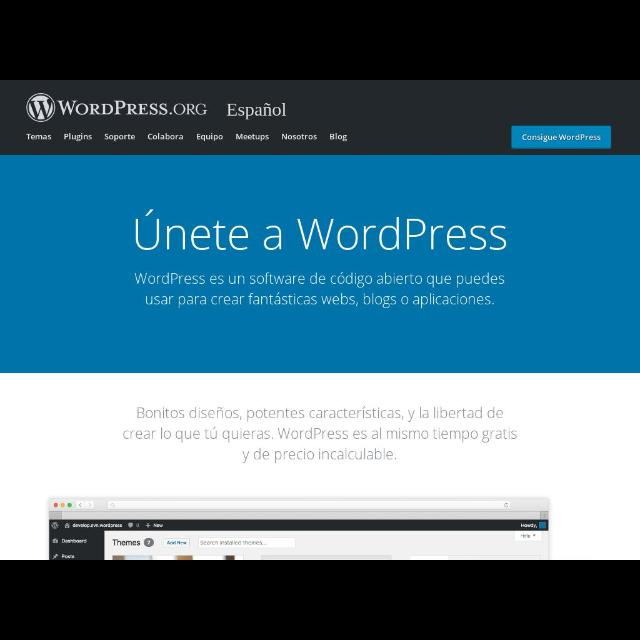image: (49, 499, 550, 559), (26, 93, 208, 123)
multitab: (0, 125, 374, 148)
text: (122, 406, 518, 464), (135, 209, 508, 253), (133, 272, 507, 310), (226, 102, 288, 120), (280, 132, 318, 142), (148, 133, 184, 141), (234, 134, 270, 142), (196, 132, 224, 142), (63, 134, 93, 142), (104, 134, 134, 142), (26, 133, 52, 141), (329, 132, 349, 142)
textbutton: (512, 126, 612, 148)
